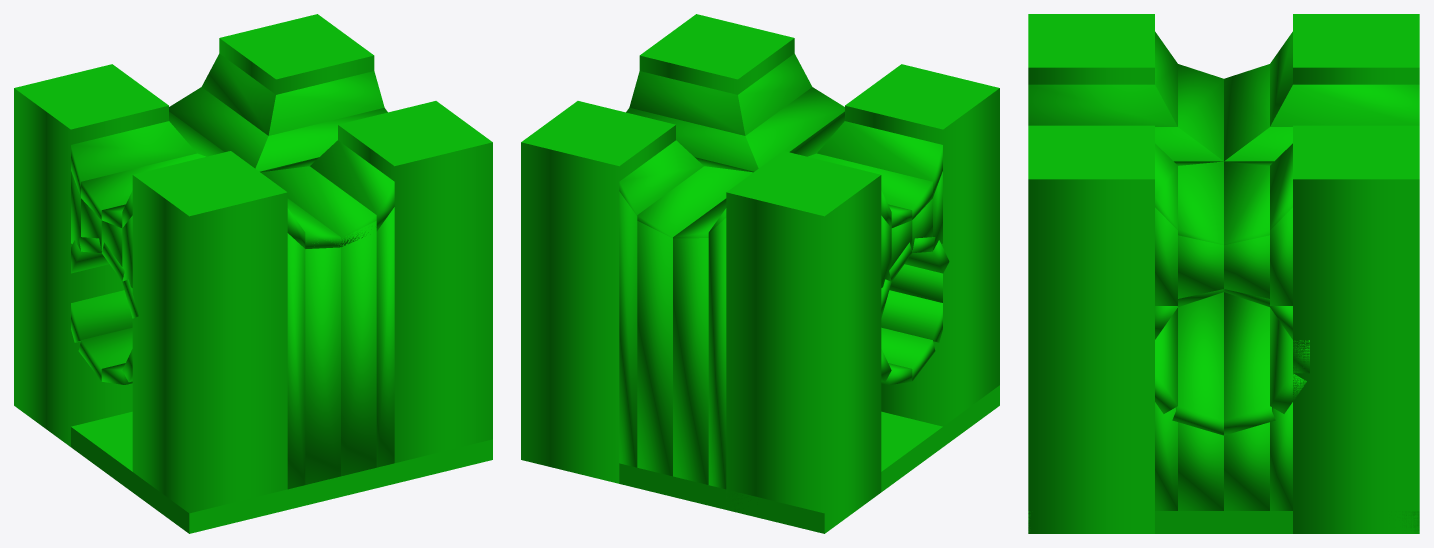
File: UCXKugelbahn.04.fbx
The picture shows the model from 3 angles, left to right: view 1: azimuth 30°, elevation 25°; view 2: azimuth 150°, elevation 25°; view 3: azimuth 270°, elevation 25°; orthographic projection. The views are drawn at different scales.
Visible parts, largest first — view 1: UCX_Kugelbahn.04_low; view 2: UCX_Kugelbahn.04_low; view 3: UCX_Kugelbahn.04_low.
Boxes of the visible parts, x1,y1,x2,y2 form: UCX_Kugelbahn.04_low: [14, 14, 492, 533]; UCX_Kugelbahn.04_low: [521, 14, 999, 533]; UCX_Kugelbahn.04_low: [1028, 14, 1419, 533].
Bounding box in the file's own units: 0.05 × 0.05 × 0.05.
